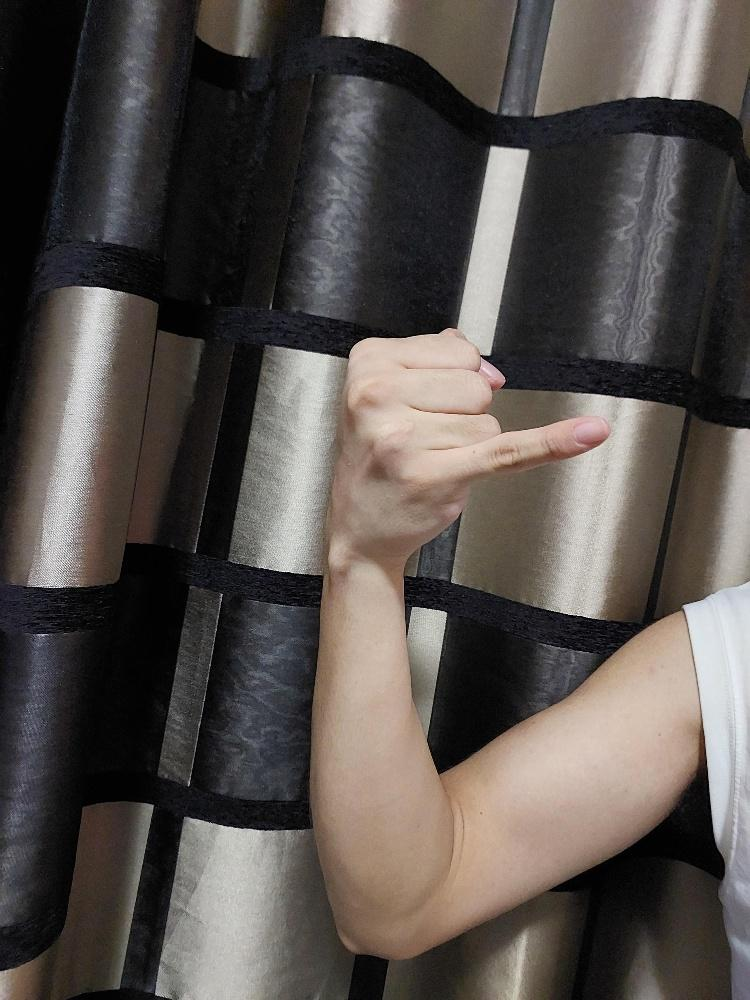j: (327, 321, 611, 562)
